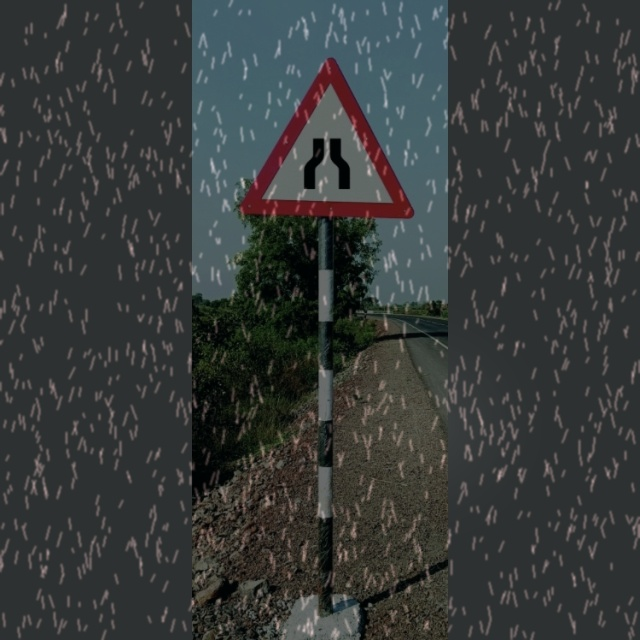Narrow_Road_Ahead: (244, 61, 416, 221)
